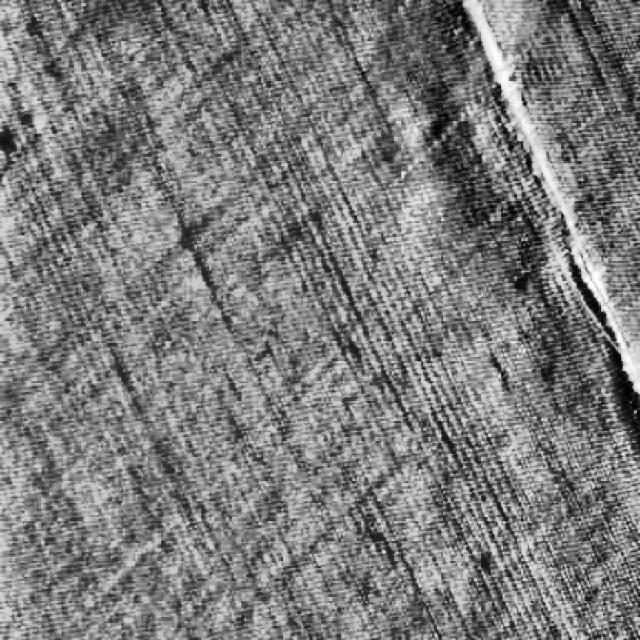hole: (438, 0, 640, 434)
